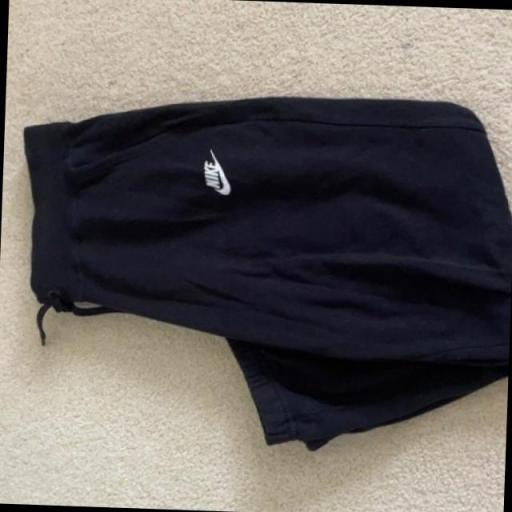Nike: (213, 152, 232, 196), (204, 162, 222, 186)
